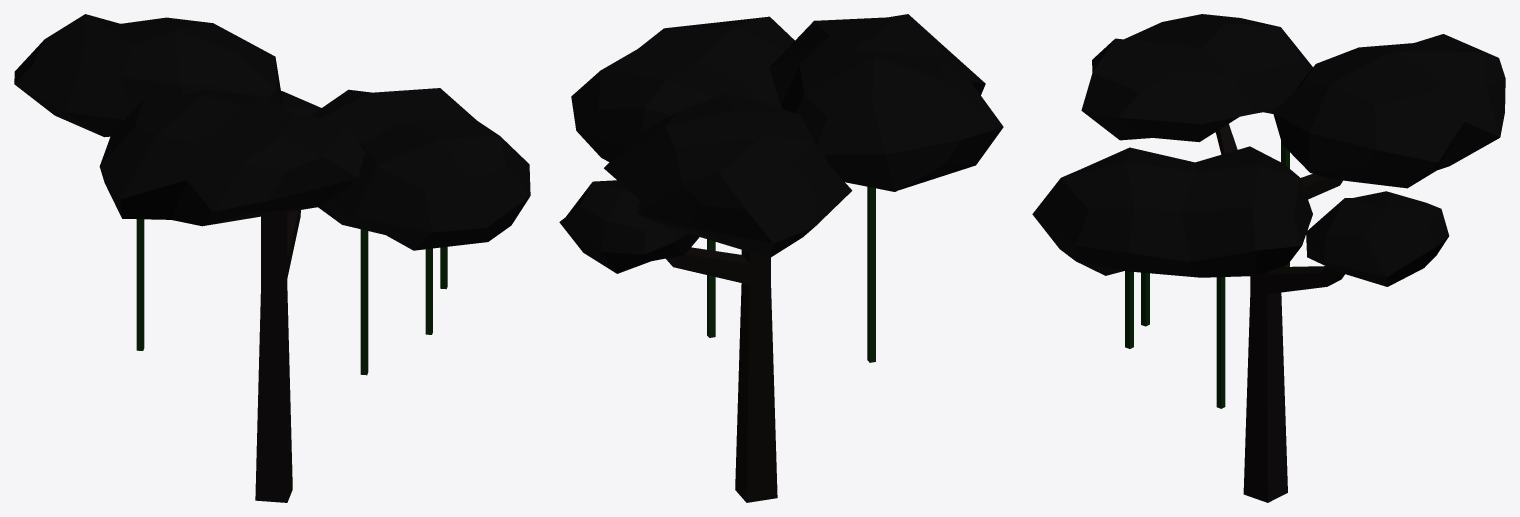
The model's file is ArbreBlocking2.fbx.
3 renders of one model, left to right at view 1: azimuth 30°, elevation 25°; view 2: azimuth 150°, elevation 25°; view 3: azimuth 270°, elevation 25°, orthographic. The views are drawn at different scales.
Visible parts, largest first — view 1: ArbreBlocking_2; view 2: ArbreBlocking_2; view 3: ArbreBlocking_2.
Boxes of the visible parts, <box> form: ArbreBlocking_2: <box>14,14,530,502</box>; ArbreBlocking_2: <box>559,14,1003,502</box>; ArbreBlocking_2: <box>1032,14,1505,502</box>.
Size of the model in its own units: 1601 by 1735 by 1748.
